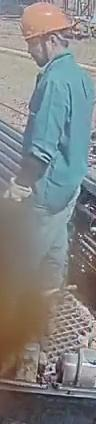gloves: (1, 176, 32, 207)
helmet: (19, 1, 72, 40)
vest: (22, 52, 93, 214)
